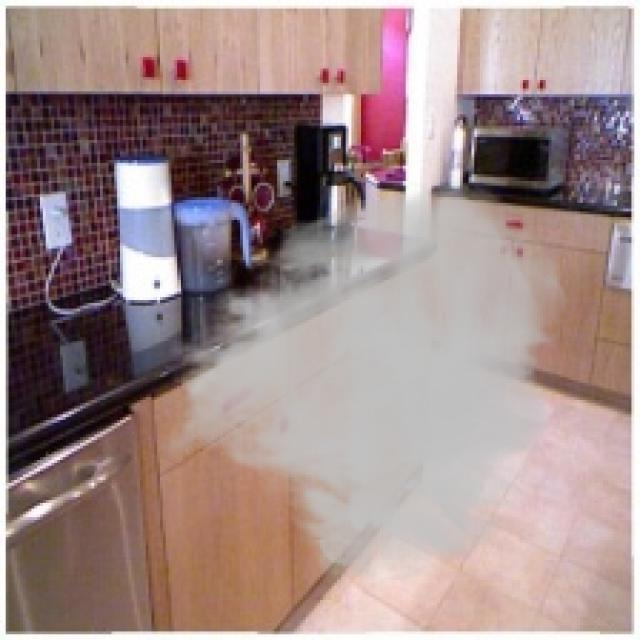Smoke: (157, 177, 572, 586)
